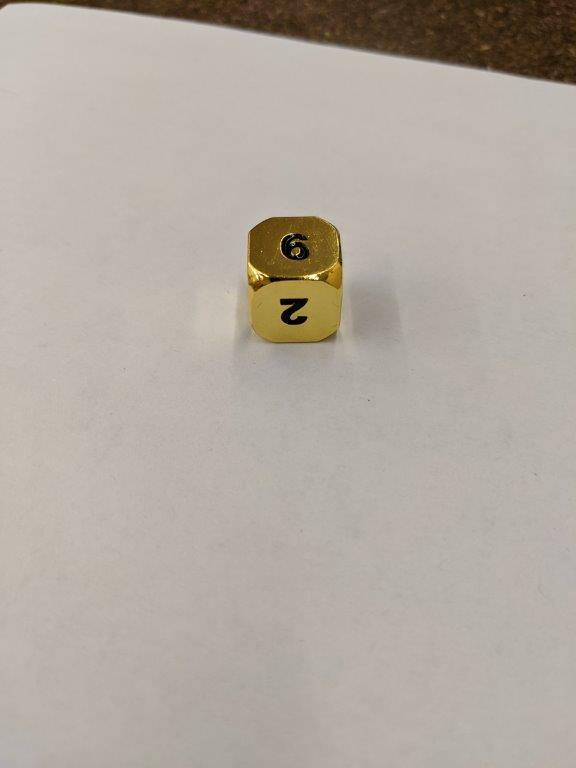d6-6: (246, 216, 340, 345)
